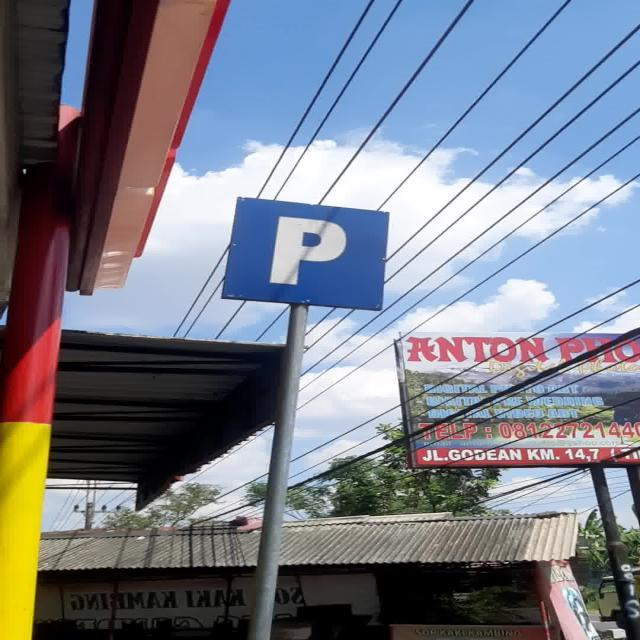Tempat Parkir: (222, 196, 389, 311)
